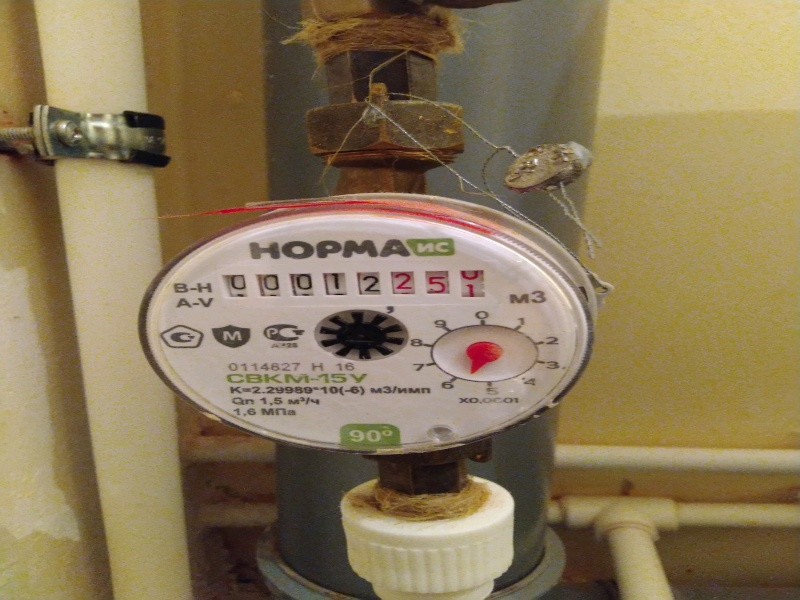meter: (226, 257, 493, 305)
